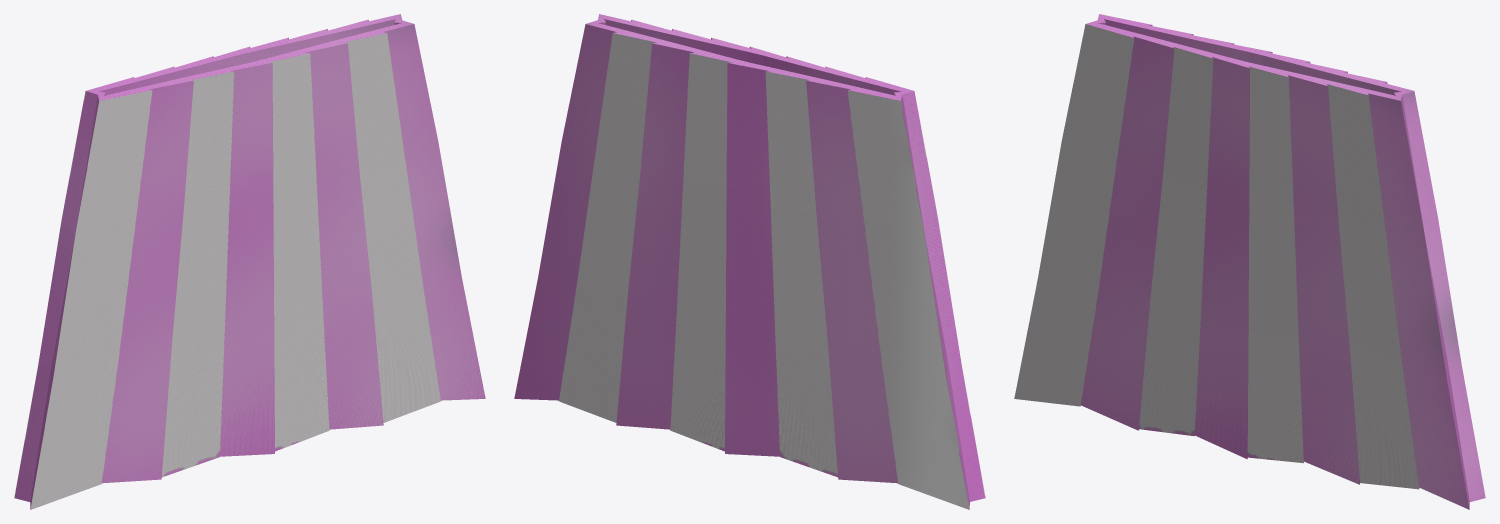
The model's file is falda.fbx.
The picture shows the model from 3 angles, left to right: view 1: azimuth 30°, elevation 25°; view 2: azimuth 150°, elevation 25°; view 3: azimuth 330°, elevation 25°; orthographic projection.
Parts seen in each view (by area): view 1: BezierCircle; view 2: BezierCircle; view 3: BezierCircle.
Boxes of the visible parts, bbox=[...] form: BezierCircle: bbox=[14, 14, 485, 509]; BezierCircle: bbox=[514, 14, 985, 509]; BezierCircle: bbox=[1014, 14, 1485, 509].
Size of the model in its own units: 36.12 by 29.65 by 3.76.
